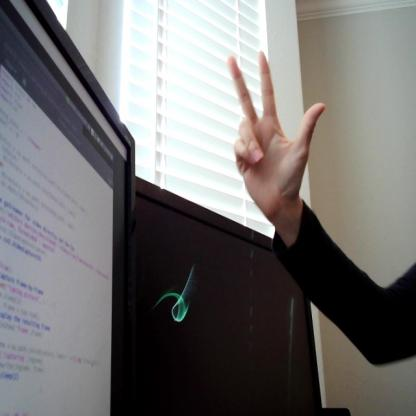three: (218, 43, 327, 220)
